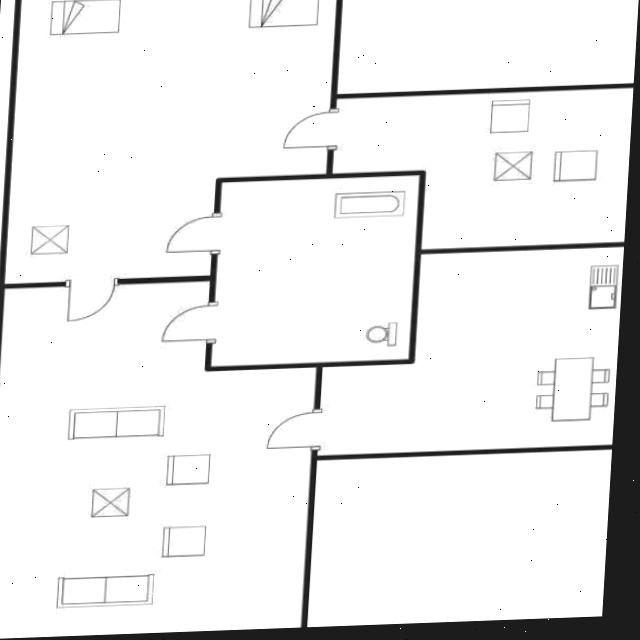room: (0, 281, 315, 639), (4, 0, 334, 284), (309, 247, 631, 456), (329, 88, 639, 253), (203, 175, 425, 367)
